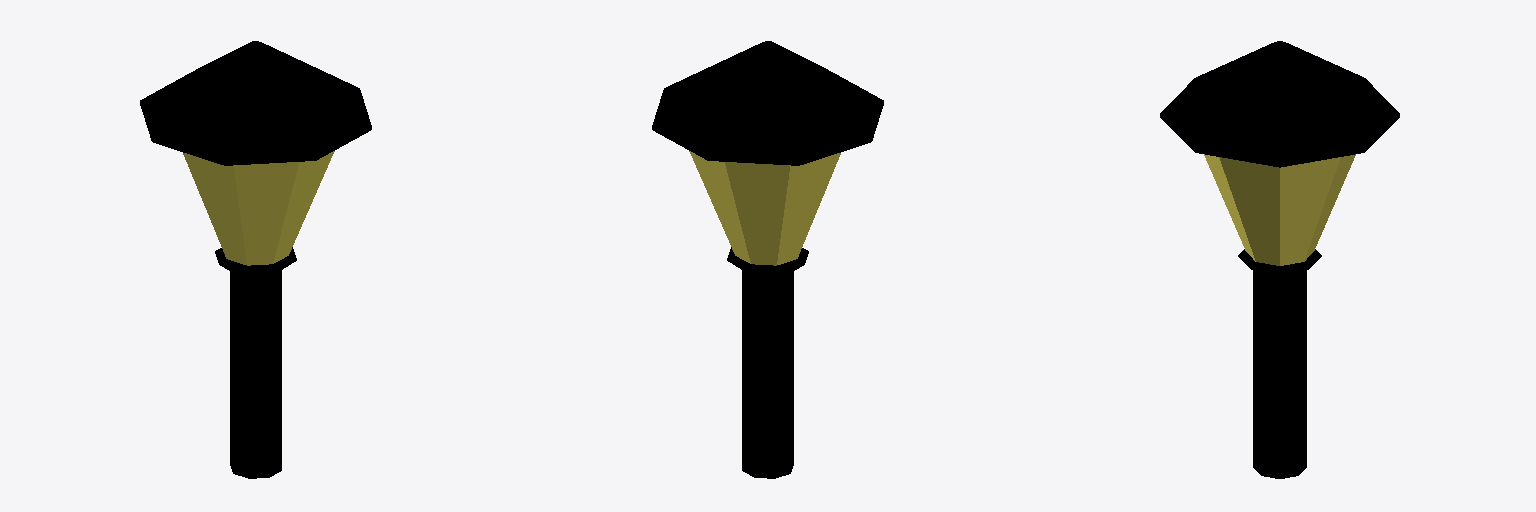
File: GardenLamp1.obj
3 renders of one model, left to right at view 1: azimuth 30°, elevation 25°; view 2: azimuth 150°, elevation 25°; view 3: azimuth 270°, elevation 25°, orthographic.
Visible parts, largest first — view 1: GardenLamp1_Cylinder.010; view 2: GardenLamp1_Cylinder.010; view 3: GardenLamp1_Cylinder.010.
Boxes of the visible parts, x1=… form: GardenLamp1_Cylinder.010: x1=140, y1=41, x2=371, y2=478; GardenLamp1_Cylinder.010: x1=652, y1=41, x2=883, y2=478; GardenLamp1_Cylinder.010: x1=1160, y1=41, x2=1399, y2=478.
Size of the model in its own units: 0.2744 by 0.5343 by 0.2744.